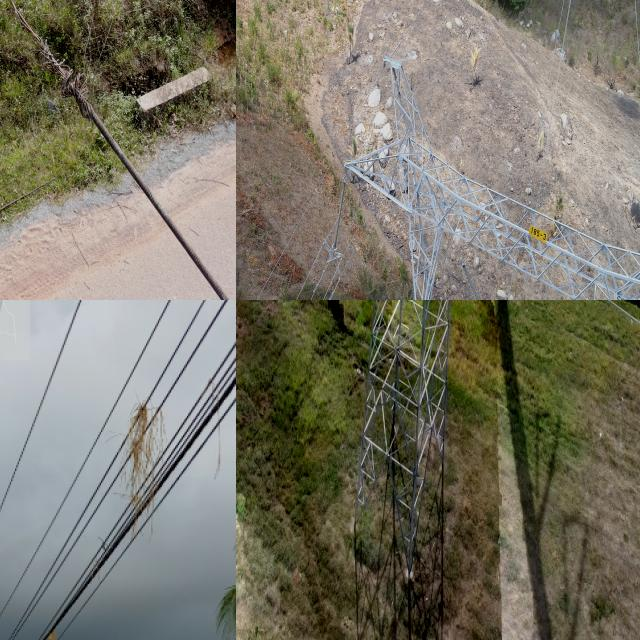杆塔: (340, 51, 640, 300), (340, 300, 462, 611)
植被遮挡: (126, 402, 167, 530), (46, 625, 57, 640)
正常绝缘子: (331, 174, 349, 252), (459, 259, 482, 300)
电缆破损: (0, 0, 109, 133)
